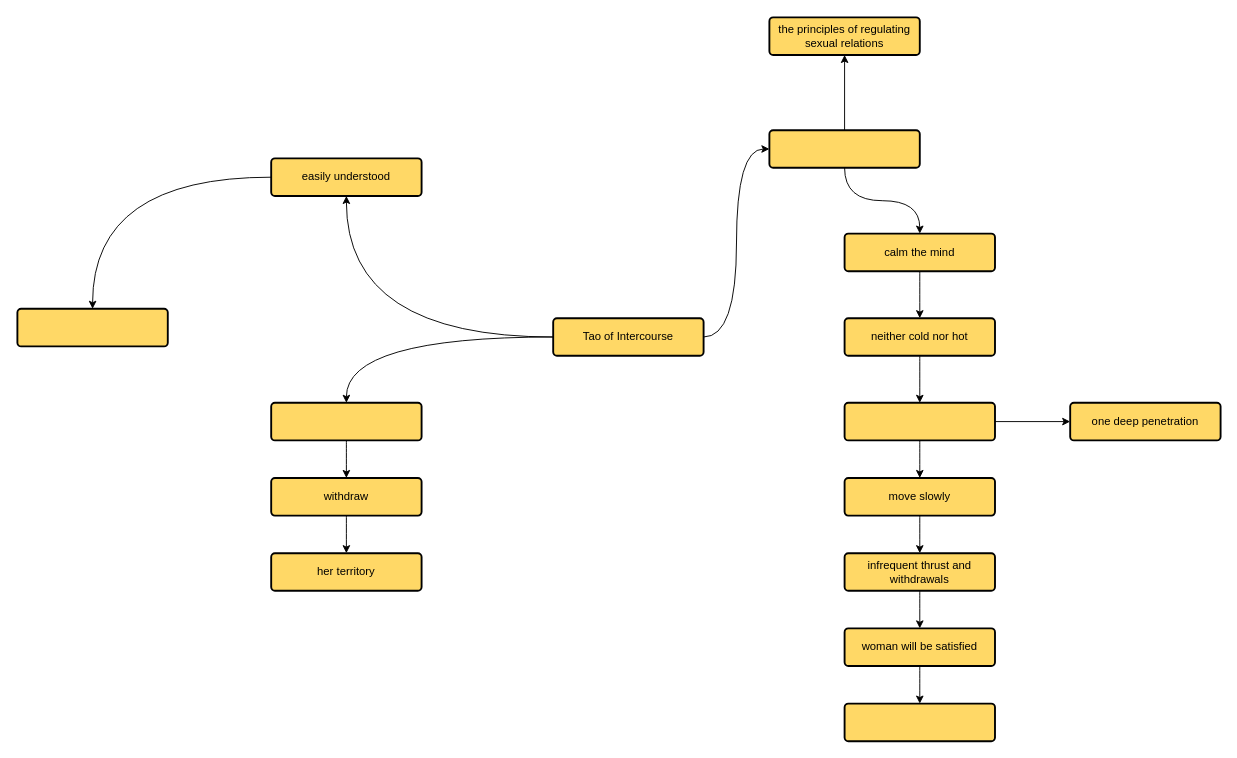
The diagram is 1237 pixels wide and 758 high, and some of its shapes have lost their labels. Here are the shapes that lost their labels. From the top down, the box of each, then its label:
(768, 129, 920, 168): settle the ch'i
(16, 307, 168, 347): practice faithfully
(270, 401, 422, 441): when Ching
(843, 401, 995, 441): penetrate shallowly
(843, 702, 995, 742): the man will retain vigor
